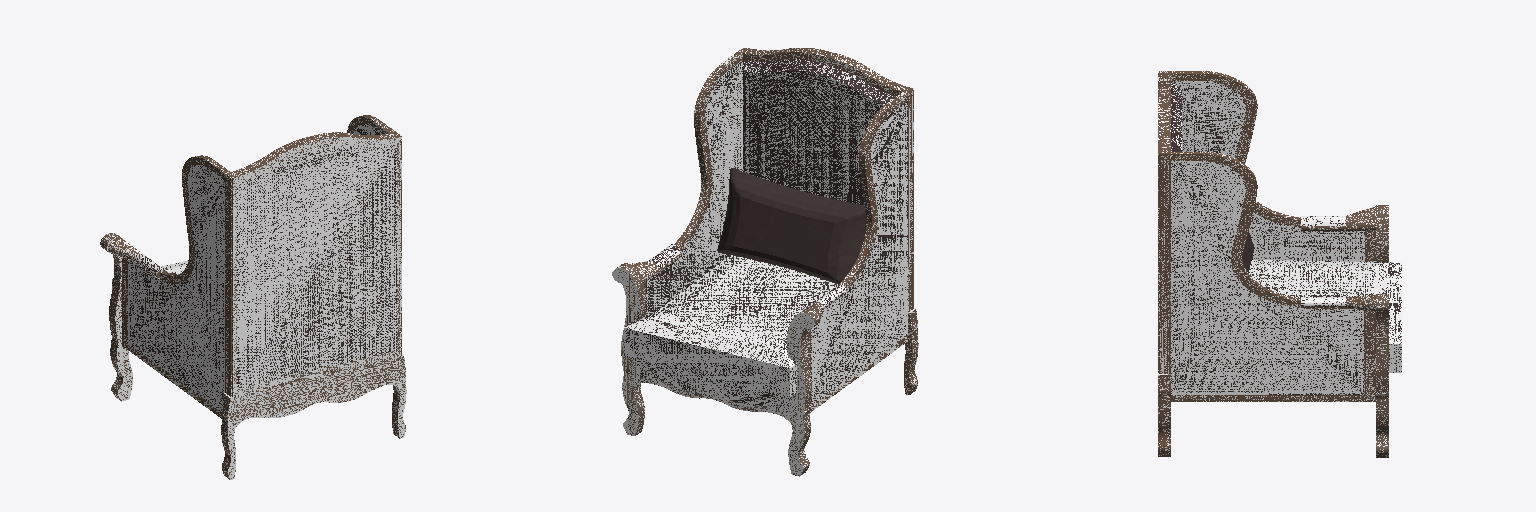
3 renders of one model, left to right at view 1: azimuth 30°, elevation 25°; view 2: azimuth 150°, elevation 25°; view 3: azimuth 270°, elevation 25°, orthographic.
Visible parts, largest first — view 1: mesh12_mesh12-geometry, mesh2_mesh2-geometry, mesh10_mesh10-geometry, mesh5_mesh5-geometry, mesh1_mesh1-geometry; view 2: mesh2_mesh2-geometry, mesh7_mesh7-geometry, mesh6_mesh6-geometry, mesh8_mesh8-geometry, mesh5_mesh5-geometry, mesh12_mesh12-geometry, mesh10_mesh10-geometry, mesh11_mesh11-geometry, mesh3_mesh3-geometry; view 3: mesh5_mesh5-geometry, mesh2_mesh2-geometry, mesh6_mesh6-geometry, mesh12_mesh12-geometry, mesh11_mesh11-geometry, mesh1_mesh1-geometry, mesh3_mesh3-geometry, mesh10_mesh10-geometry, mesh7_mesh7-geometry.
Boxes of the visible parts, x1,y1,x2,y2 form: mesh12_mesh12-geometry: [112, 132, 406, 479]; mesh2_mesh2-geometry: [122, 155, 231, 418]; mesh10_mesh10-geometry: [100, 233, 132, 401]; mesh5_mesh5-geometry: [347, 115, 401, 355]; mesh1_mesh1-geometry: [108, 238, 165, 278]; mesh2_mesh2-geometry: [807, 89, 913, 412]; mesh7_mesh7-geometry: [743, 59, 894, 237]; mesh6_mesh6-geometry: [624, 254, 837, 367]; mesh8_mesh8-geometry: [717, 168, 866, 284]; mesh5_mesh5-geometry: [644, 48, 744, 311]; mesh12_mesh12-geometry: [624, 48, 918, 396]; mesh10_mesh10-geometry: [713, 308, 820, 476]; mesh11_mesh11-geometry: [612, 263, 712, 435]; mesh3_mesh3-geometry: [631, 244, 681, 282]; mesh5_mesh5-geometry: [1159, 152, 1375, 401]; mesh2_mesh2-geometry: [1159, 71, 1375, 261]; mesh6_mesh6-geometry: [1249, 260, 1401, 343]; mesh12_mesh12-geometry: [1158, 72, 1401, 456]; mesh11_mesh11-geometry: [1376, 294, 1388, 457]; mesh1_mesh1-geometry: [1301, 206, 1375, 230]; mesh3_mesh3-geometry: [1301, 295, 1375, 311]; mesh10_mesh10-geometry: [1376, 205, 1388, 262]; mesh7_mesh7-geometry: [1171, 82, 1181, 151].
Bounding box in the file's own units: 0.4781 × 0.7217 × 0.5005.
Materials: 7 (3 with a texture image).